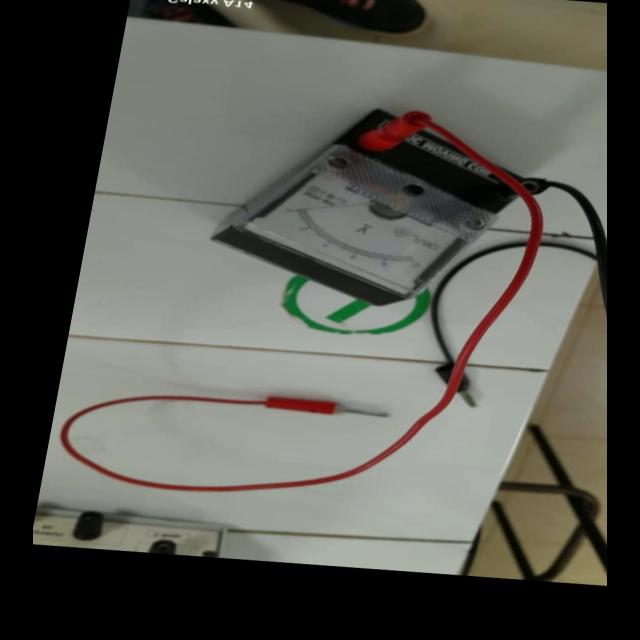Voltmeter: (66, 89, 607, 511)
